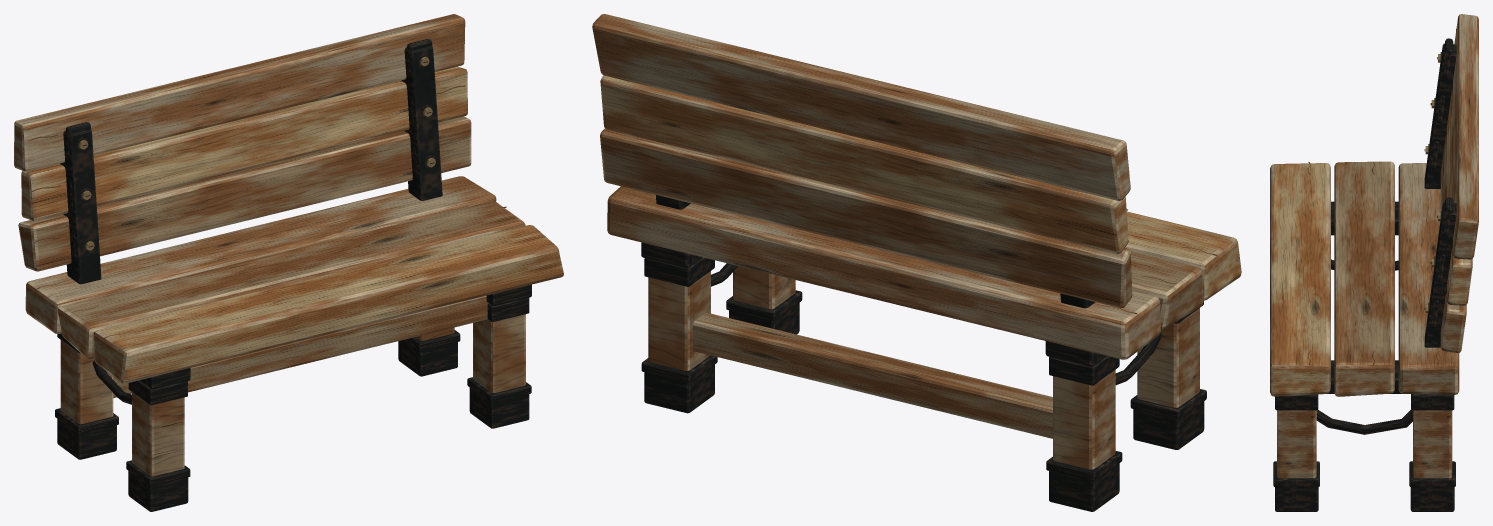
File: bench.glb
3 views of the same model, side by side, from view 1: azimuth 30°, elevation 25°; view 2: azimuth 150°, elevation 25°; view 3: azimuth 270°, elevation 25° (orthographic). The views are drawn at different scales.
Visible parts, largest first — view 1: Timber frame and forged fittings, Seat plank 3, Backrest plank 3, Backrest plank 1, Backrest plank 2, Seat plank 2, Seat plank 1; view 2: Timber frame and forged fittings, Backrest plank 3, Backrest plank 1, Backrest plank 2, Seat plank 1, Seat plank 3, Seat plank 2; view 3: Timber frame and forged fittings, Seat plank 2, Seat plank 3, Seat plank 1, Backrest plank 3, Backrest plank 2, Backrest plank 1.
Part boxes in pixels (left/top/right/bottom): Timber frame and forged fittings: left=28, top=35, right=540, bottom=511; Seat plank 3: left=93, top=225, right=563, bottom=383; Backrest plank 3: left=14, top=14, right=465, bottom=171; Backrest plank 1: left=18, top=116, right=471, bottom=271; Backrest plank 2: left=21, top=66, right=467, bottom=220; Seat plank 2: left=57, top=201, right=525, bottom=359; Seat plank 1: left=25, top=176, right=496, bottom=333; Timber frame and forged fittings: left=620, top=187, right=1216, bottom=511; Backrest plank 3: left=592, top=14, right=1130, bottom=200; Backrest plank 1: left=600, top=128, right=1132, bottom=308; Backrest plank 2: left=600, top=75, right=1128, bottom=253; Seat plank 1: left=607, top=186, right=1160, bottom=359; Seat plank 3: left=1125, top=211, right=1241, bottom=300; Seat plank 2: left=1130, top=251, right=1203, bottom=329; Timber frame and forged fittings: left=1273, top=28, right=1456, bottom=511; Seat plank 2: left=1334, top=161, right=1394, bottom=396; Seat plank 3: left=1270, top=163, right=1330, bottom=396; Seat plank 1: left=1398, top=163, right=1459, bottom=394; Backrest plank 3: left=1453, top=14, right=1478, bottom=259; Backrest plank 2: left=1447, top=89, right=1472, bottom=305; Backrest plank 1: left=1440, top=134, right=1466, bottom=352.
Bounding box in the file's own units: 1.99 × 1.38 × 0.8452.
Materials: 8 (6 with a texture image).
